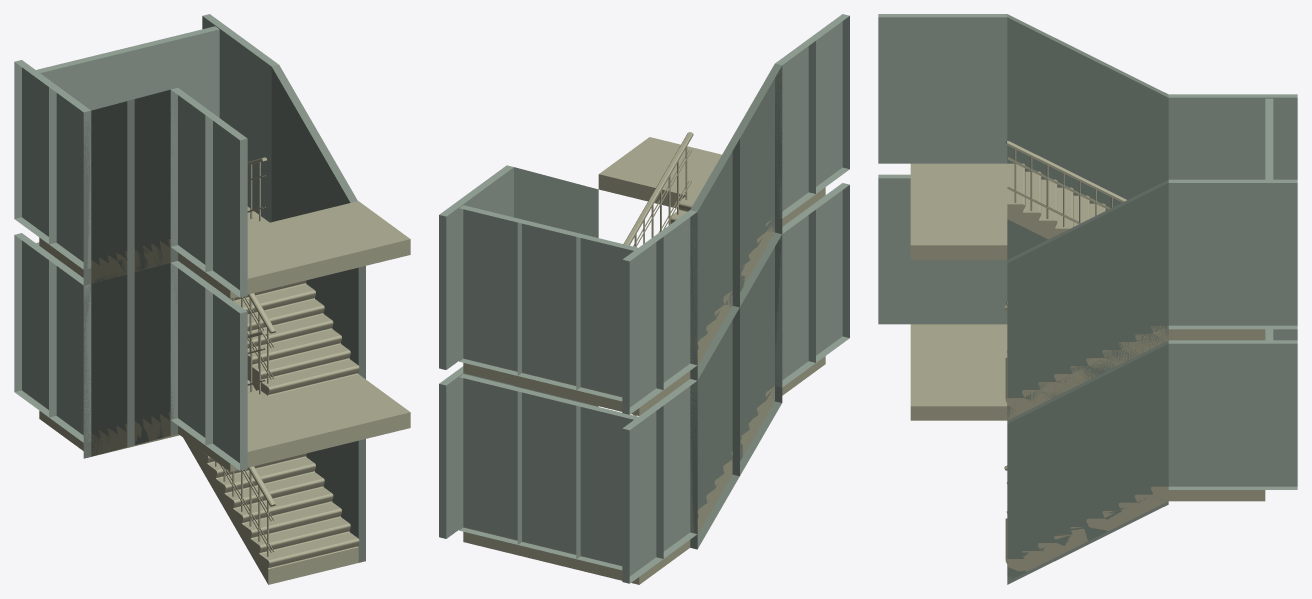
The model's file is entrance_test_02_uni.fbx.
The picture shows the model from 3 angles, left to right: view 1: azimuth 30°, elevation 25°; view 2: azimuth 150°, elevation 25°; view 3: azimuth 270°, elevation 25°; orthographic projection. The views are drawn at different scales.
Parts seen in each view (by area): view 1: pCube478; view 2: pCube478; view 3: pCube478.
Boxes of the visible parts, left/top/right/bottom form: pCube478: left=14, top=14, right=410, bottom=584; pCube478: left=439, top=14, right=849, bottom=584; pCube478: left=878, top=14, right=1297, bottom=584.
Size of the model in its own units: 325 by 825 by 650.
